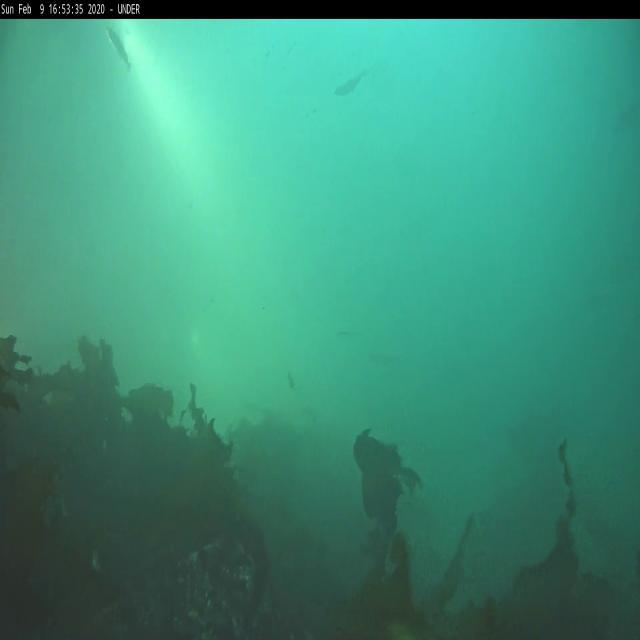fish: (105, 26, 136, 74), (333, 70, 366, 100)
